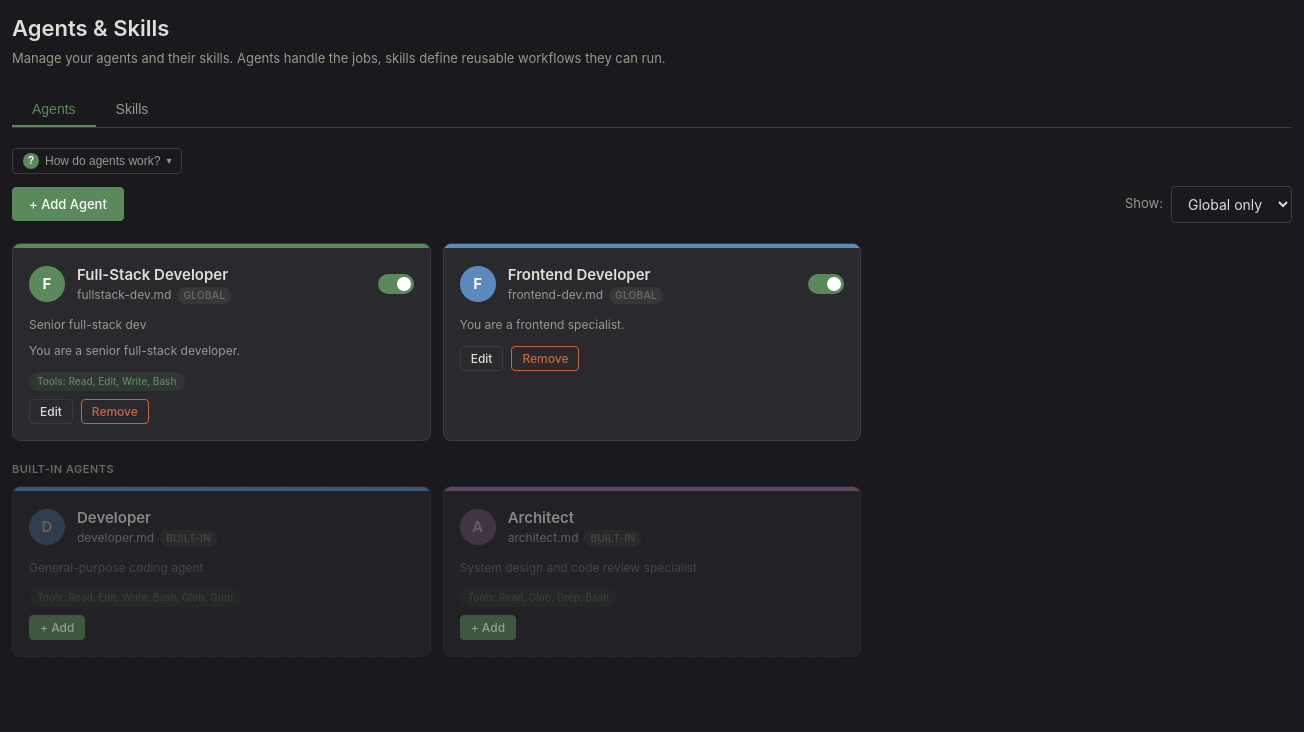
Test: AgentsPage › shows delete confirmation
Expected: the text "Full-Stack Developer" is shown, x1=77 y1=264 x2=228 y2=284
Click the button "Remove" below "You are a senior full-stack developer.".
click(115, 412)  # box x1=81 y1=399 x2=149 y2=424
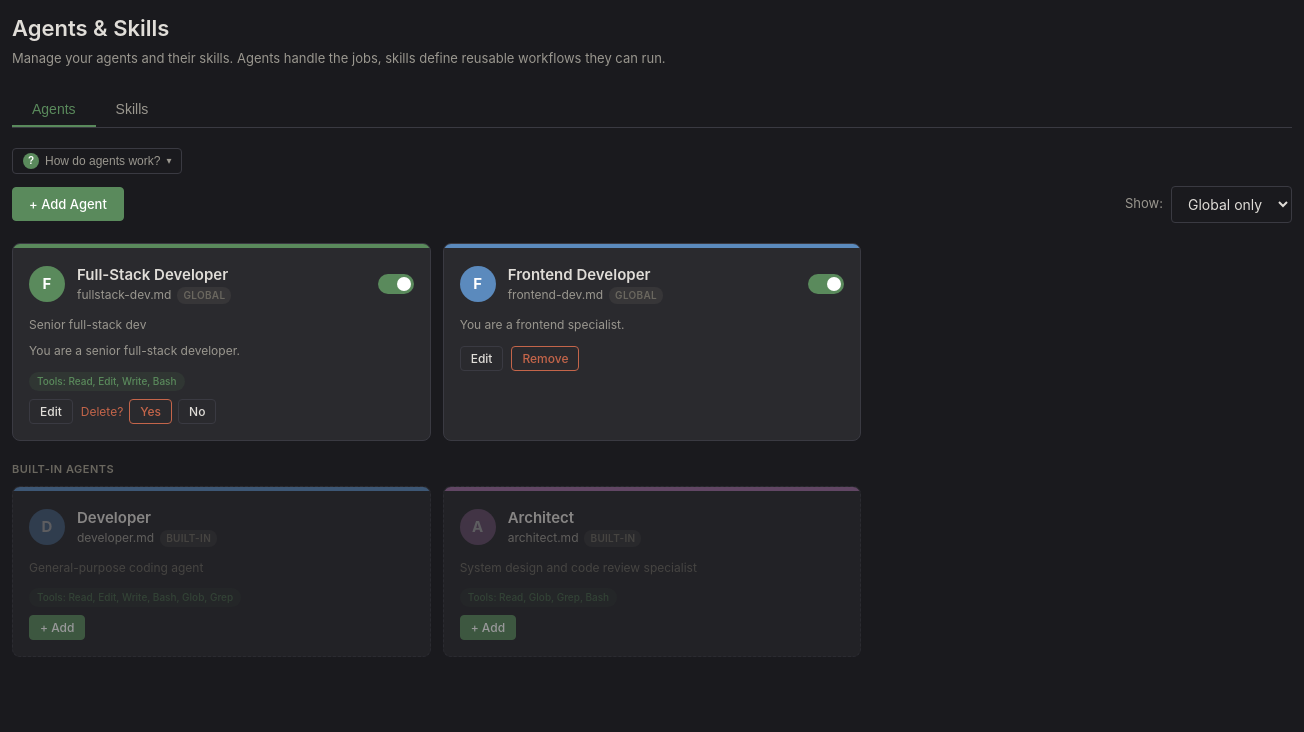
Now the text "Delete?" is shown, box x1=81 y1=402 x2=123 y2=420
Now the button "Yes" is shown, box x1=129 y1=399 x2=172 y2=424
Now the button "No" is shown, box x1=178 y1=399 x2=216 y2=424
